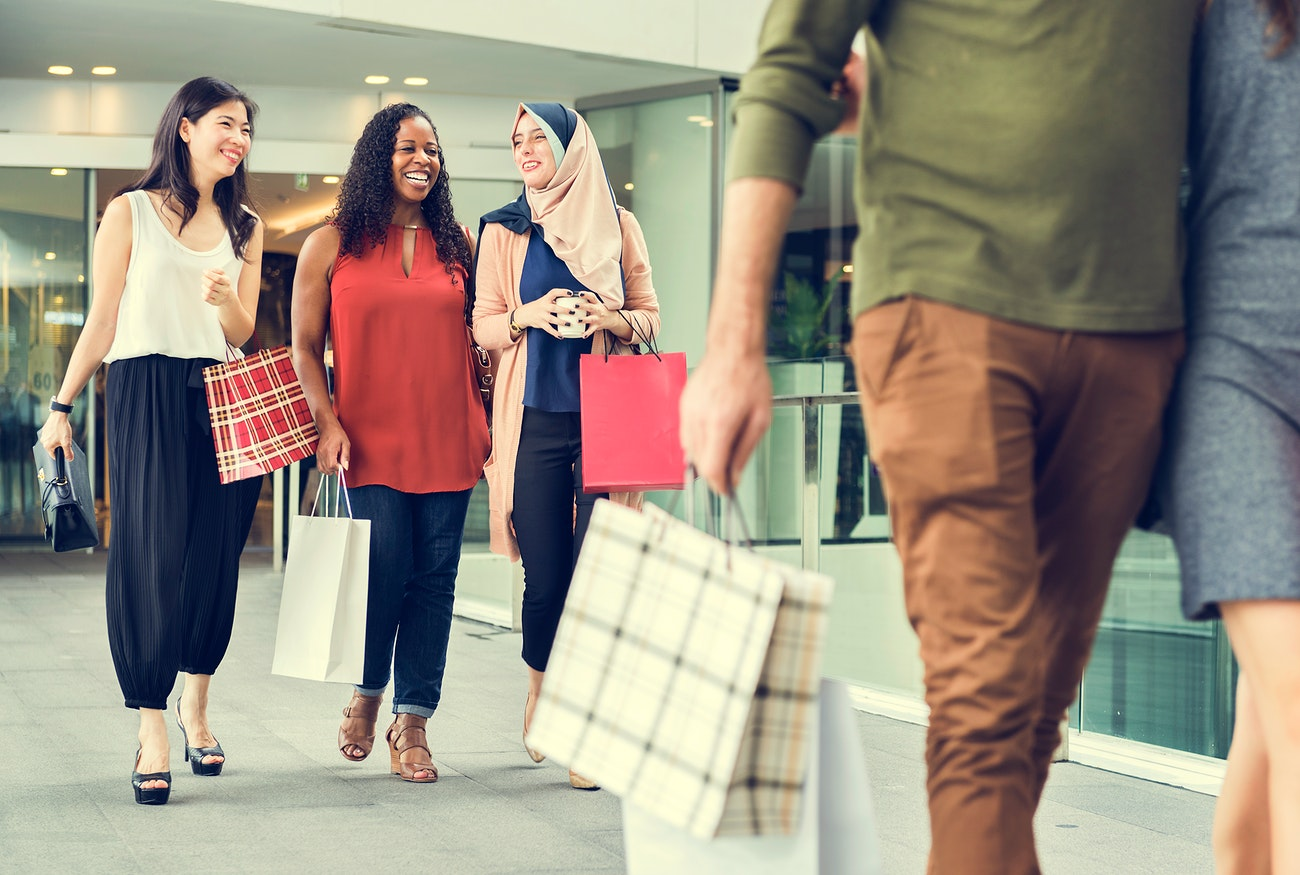Person: (690, 1, 1180, 874), (32, 73, 256, 815), (298, 100, 475, 788), (482, 112, 671, 527)
